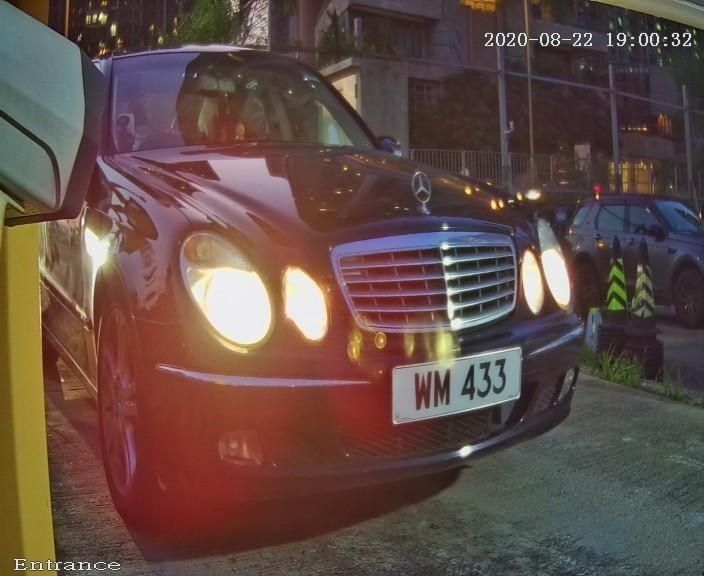Car: (19, 19, 648, 541)
License Plate: (354, 307, 546, 460)
